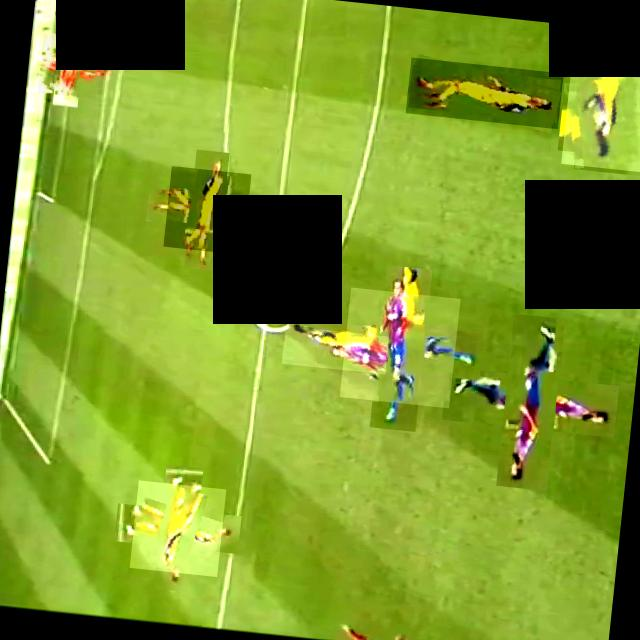goalkeeper: (128, 479, 225, 576), (36, 34, 100, 98)
soccer-player: (467, 341, 591, 464), (338, 287, 459, 408), (404, 57, 562, 129), (560, 70, 640, 173), (162, 166, 250, 254), (280, 325, 388, 374), (624, 267, 640, 302)
